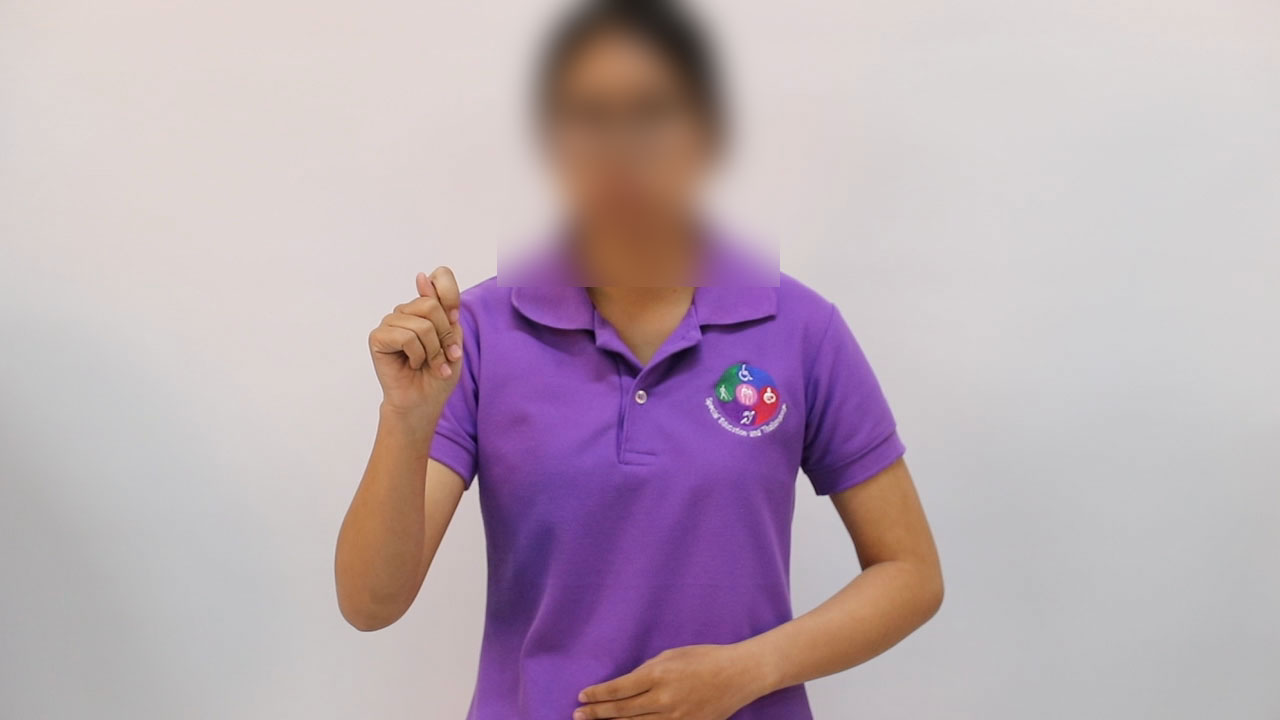tor: (331, 259, 499, 436)
